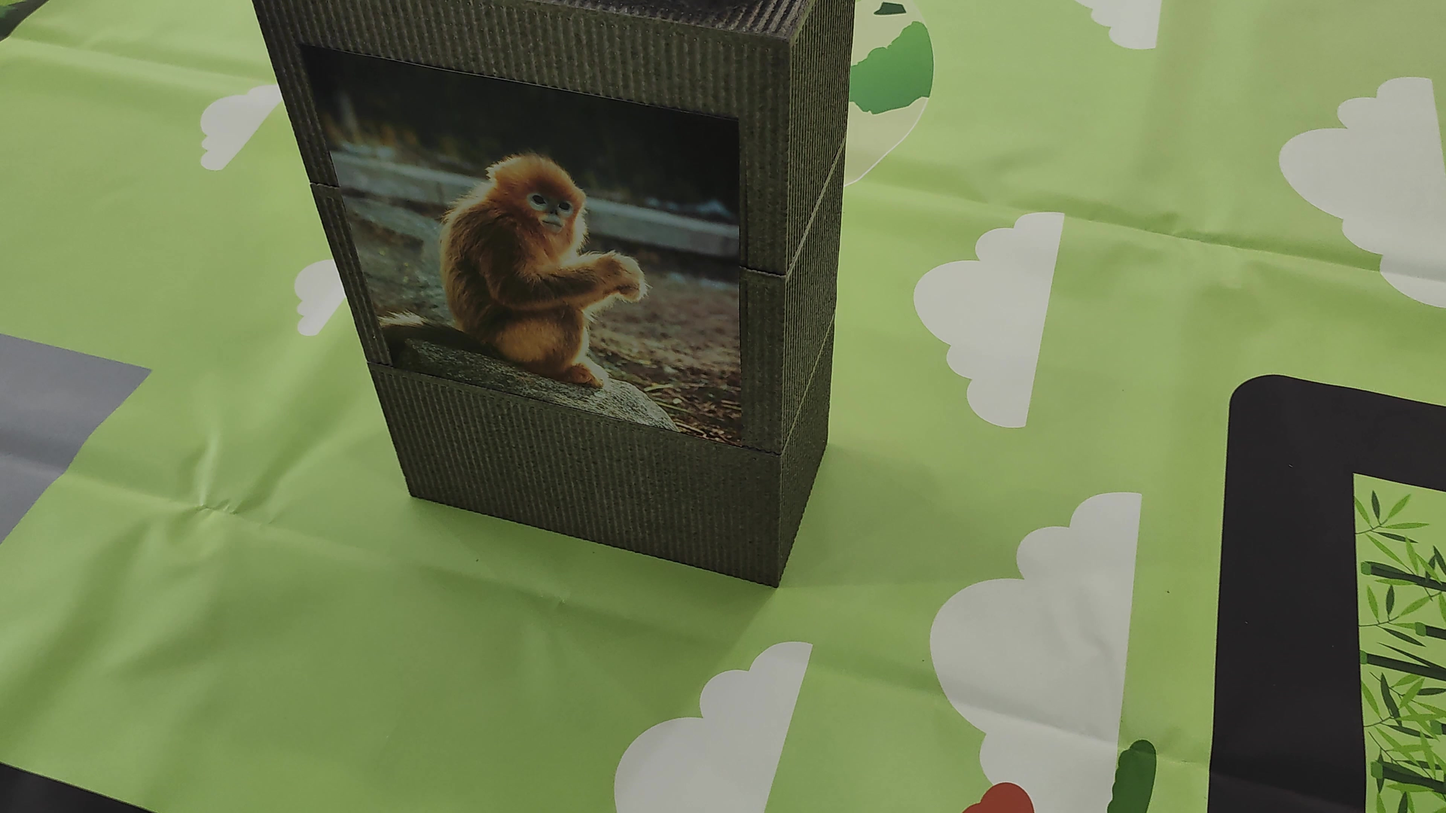monkey: (410, 128, 679, 405)
